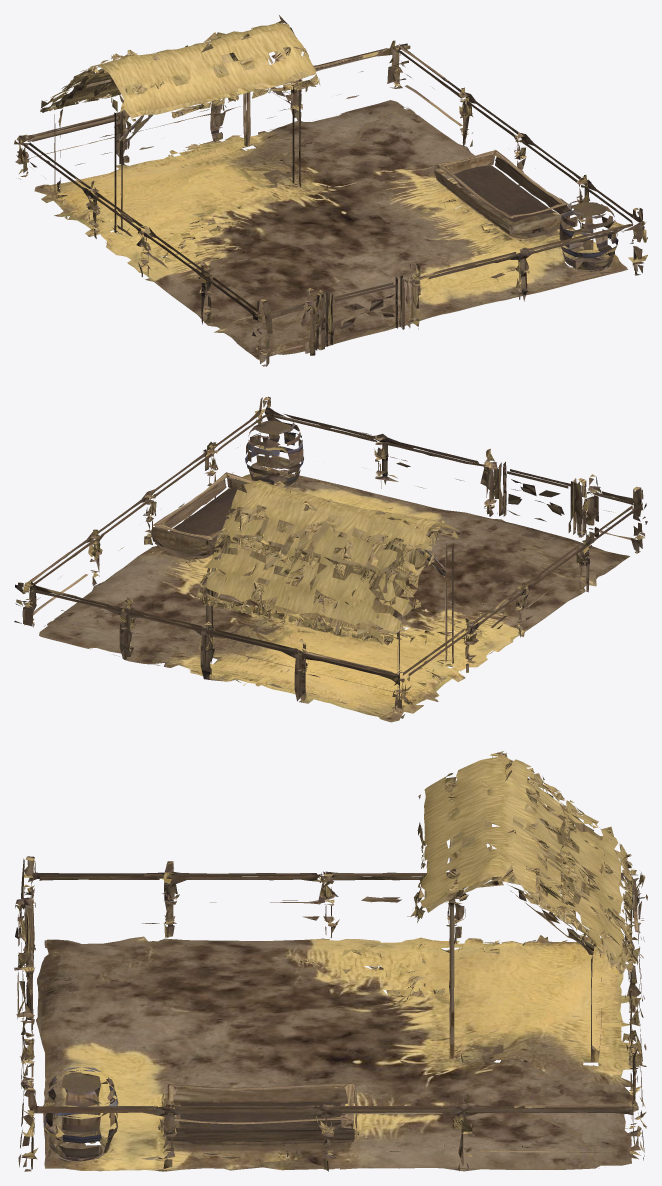
Rendered from viehgehege.glb.
3 renders of one model, top to bottom at view 1: azimuth 30°, elevation 25°; view 2: azimuth 150°, elevation 25°; view 3: azimuth 270°, elevation 25°, orthographic. The views are drawn at different scales.
Bounding box in the file's own units: 1.72 × 0.6767 × 1.89.
Materials: 1 (1 with a texture image).
